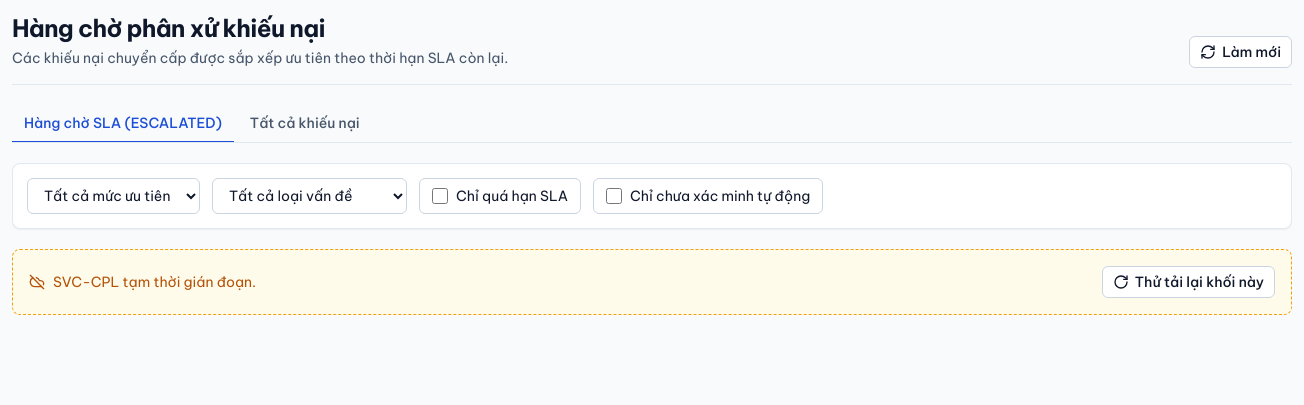
T4-12: CSKH SLA Queue (/admin/complaints/queue) › shows ServiceFallbackBanner on queue error and retries cleanly
The width and height of the screenshot is (1304, 405).
expect the text "SVC-CPL tạm thời gián đoạn." is shown: met, box [53, 272, 256, 292]
Step 1. Click the button "Thử tải lại khối này" → {"x": 1188, "y": 282}, box [1102, 266, 1275, 298]
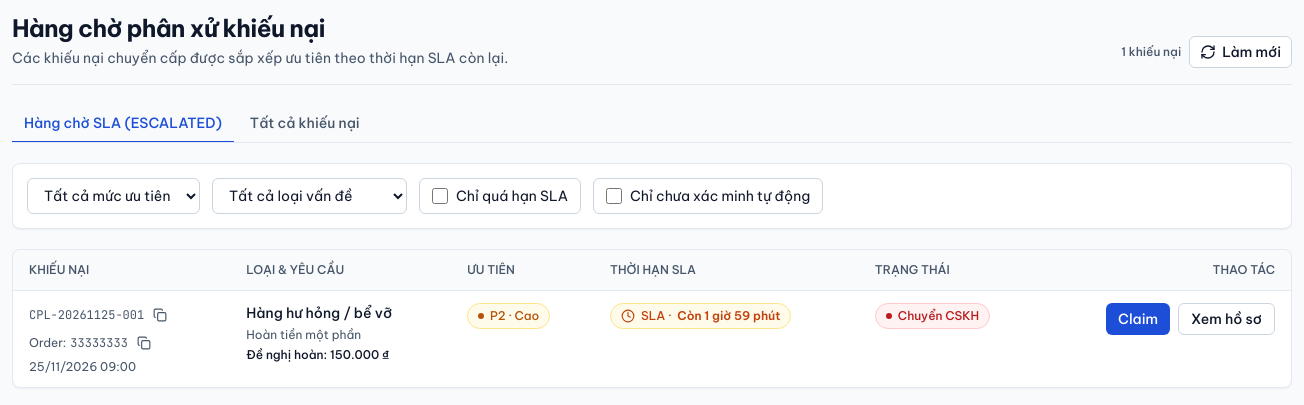
expect the table is shown: met, box [13, 250, 1291, 387]
